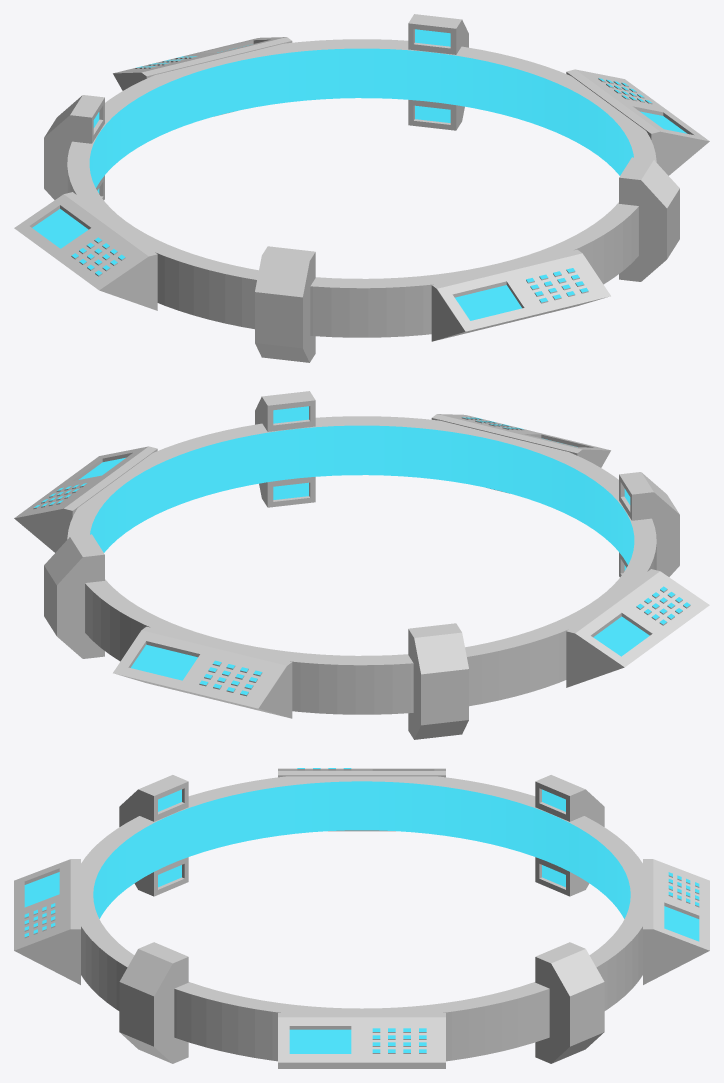
The model's file is TableEdge.glb.
3 views of the same model, one above another, from view 1: azimuth 30°, elevation 25°; view 2: azimuth 150°, elevation 25°; view 3: azimuth 270°, elevation 25° (orthographic).
Parts seen in each view (by area): view 1: Cylinder; view 2: Cylinder; view 3: Cylinder.
Boxes of the visible parts, x1,y1,x2,y2 form: Cylinder: (14,14,709,362); Cylinder: (14,391,709,739); Cylinder: (14,768,709,1068).
Bounding box in the file's own units: 2.39 × 0.3818 × 2.39.
